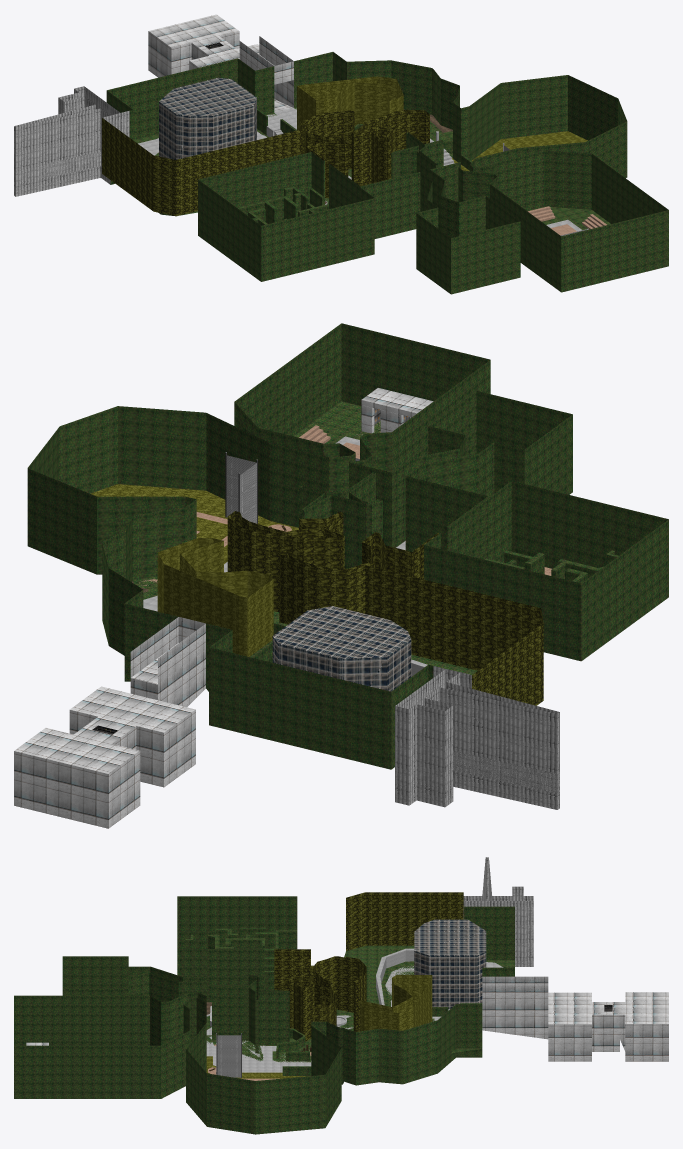
File: park.FBX
3 views of the same model, one above another, from view 1: azimuth 30°, elevation 25°; view 2: azimuth 150°, elevation 25°; view 3: azimuth 270°, elevation 25° (orthographic). The views are drawn at different scales.
Parts seen in each view (by area): view 1: park; view 2: park; view 3: park.
Part boxes in pixels (box(x1,y1,x2,y2)): park: box(14, 14, 668, 294); park: box(14, 323, 668, 828); park: box(14, 857, 668, 1134).
Size of the model in its own units: 10744 by 13302 by 1487.
